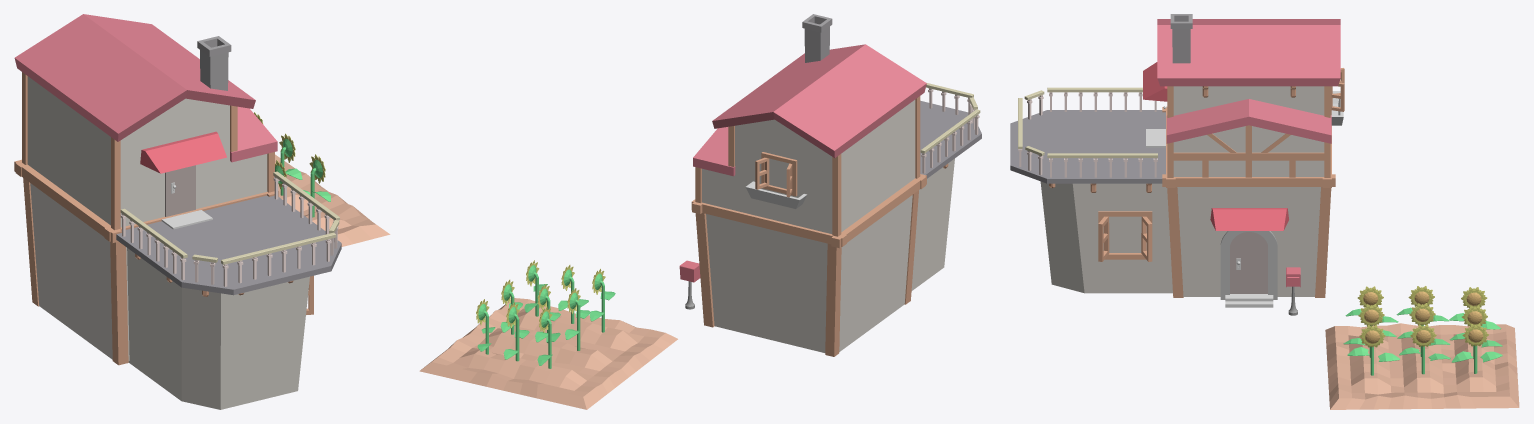
The model's file is ハウス2.glb.
The picture shows the model from 3 angles, left to right: view 1: azimuth 30°, elevation 25°; view 2: azimuth 150°, elevation 25°; view 3: azimuth 270°, elevation 25°; orthographic projection. The views are drawn at different scales.
Visible parts, largest first — view 1: 立方体.111, 立方体.106, 立方体.093, 立方体.080, 立方体.040, グリッド.001, 立方体.085, 立方体.060, 立方体.104, 平面.030, 平面.036, 立方体.083 (+1 smaller); view 2: 立方体.111, グリッド.001, 立方体.106, 立方体.080, 平面.036, 立方体.093, 平面.034, 立方体.104, 立方体.040, 立方体.060, 立方体.105; view 3: 立方体.111, 立方体.106, グリッド.001, 立方体.080, 立方体.093, 立方体.085, 平面.034, 平面.036, 平面.030, 立方体.060, 球.017, Cube.001 (+3 smaller).
Part boxes in pixels (x1,y1,x2,y2): 立方体.111: (27,76,309,409); 立方体.106: (14,14,277,162); 立方体.093: (116,195,341,295); 立方体.080: (14,72,313,365); 立方体.040: (120,176,338,286); グリッド.001: (275,154,390,246); 立方体.085: (140,131,226,173); 立方体.060: (120,171,339,264); 立方体.104: (197,36,231,90); 平面.030: (165,165,195,216); 平面.036: (275,139,330,217); 立方体.083: (161,210,212,229); 立方体.111: (702,100,954,352); グリッド.001: (419,298,677,409); 立方体.106: (693,44,926,176); 立方体.080: (691,96,948,356); 平面.036: (477,265,615,368); 立方体.093: (920,100,981,178); 平面.034: (476,260,605,332); 立方体.104: (802,14,832,62); 立方体.040: (921,88,979,173); 立方体.060: (920,83,980,153); 立方体.105: (745,181,806,208); 立方体.111: (1040,86,1324,296); 立方体.106: (1157,19,1340,143); グリッド.001: (1325,323,1519,409); 立方体.080: (1049,68,1344,297); 立方体.093: (1010,110,1165,183); 立方体.085: (1143,62,1288,230); 平面.034: (1357,286,1488,347); 平面.036: (1343,307,1502,375); 平面.030: (1230,232,1267,293); 立方体.060: (1018,87,1157,157); 球.017: (1363,291,1483,343); Cube.001: (1220,231,1277,299).
Size of the model in its own units: 142 by 119 by 190.
